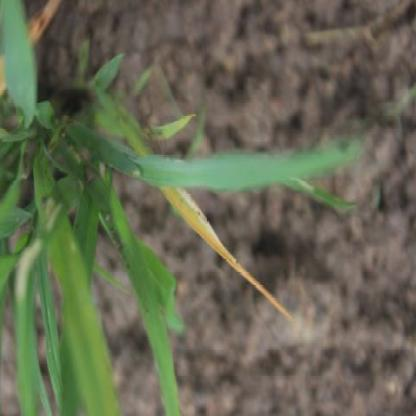Tungro: (157, 191, 286, 321)
